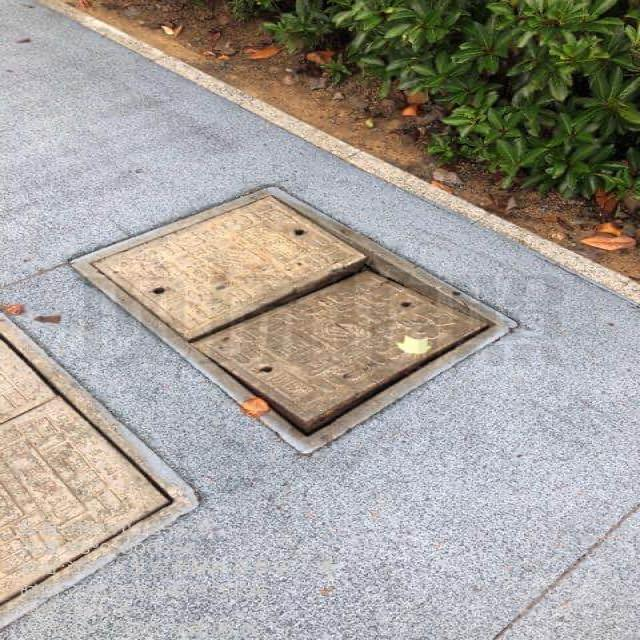Faulty: (66, 184, 518, 455)
